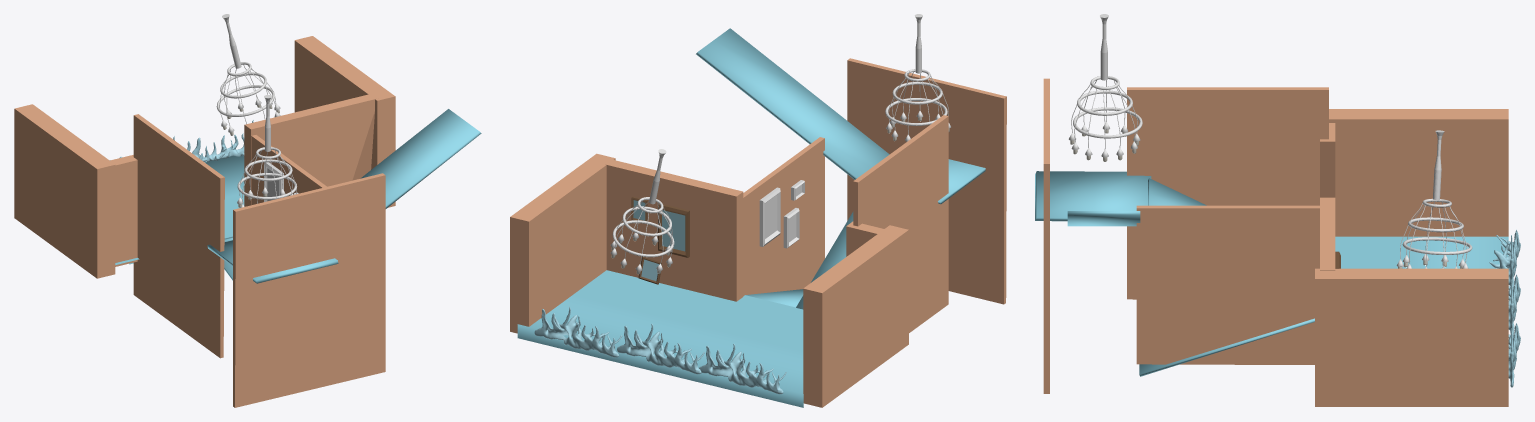
Rendered from stairy_render.glb.
The picture shows the model from 3 angles, left to right: view 1: azimuth 30°, elevation 25°; view 2: azimuth 150°, elevation 25°; view 3: azimuth 270°, elevation 25°; orthographic projection. The views are drawn at different scales.
Visible parts, largest first — view 1: walls_detaild, floor_detailed, Cube.006, Cube, Torus.005; view 2: walls_detaild, floor_detailed, Cube.005, Cube.003, Cube.006, Cube, blue_painting, wall_painting, Cube.001, Torus.005; view 3: walls_detaild, floor_detailed, Cube.003, Torus.009, Torus.005, Cube.006, Cube.005, Torus.003, fancy_light, fancy_light.002.
Boxes of the visible parts, x1,y1,x2,y2 form: walls_detaild: (14,36,395,407); floor_detailed: (115,109,481,283); Cube.006: (205,120,253,161); Cube: (264,162,283,201); Torus.005: (216,85,274,116); walls_detaild: (510,58,1006,407); floor_detailed: (517,28,985,407); Cube.005: (617,323,704,374); Cube.003: (699,344,786,394); Cube.006: (534,306,621,357); Cube: (759,187,780,246); blue_painting: (662,210,685,251); wall_painting: (658,204,689,257); Cube.001: (783,208,799,248); Torus.005: (612,220,674,257); walls_detaild: (1043,78,1508,406); floor_detailed: (1035,171,1508,376); Cube.003: (1489,229,1520,286); Torus.009: (1073,107,1142,138); Torus.005: (1402,237,1472,254); Cube.006: (1508,323,1520,387); Cube.005: (1508,274,1520,335); Torus.003: (1077,90,1132,115); fancy_light: (1433,130,1444,199); fancy_light.002: (1100,14,1108,80).
Bounding box in the file's own units: 46.47 × 41.49 × 56.08.
